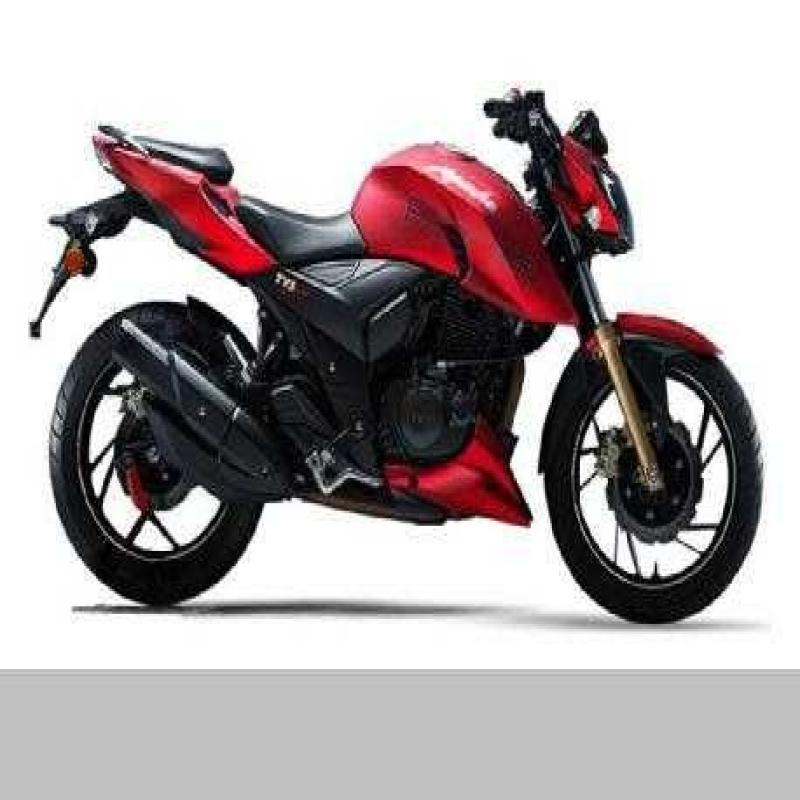bike: (16, 45, 786, 637)
